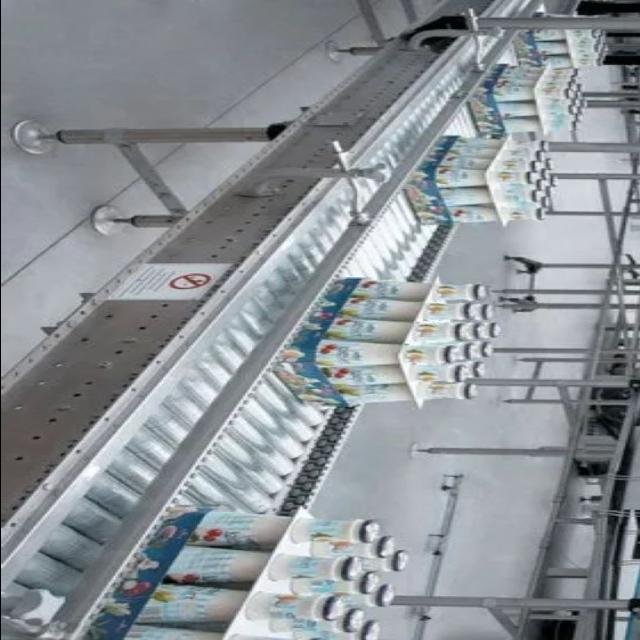bottle: (120, 505, 410, 639), (270, 275, 502, 409), (401, 133, 558, 227)
